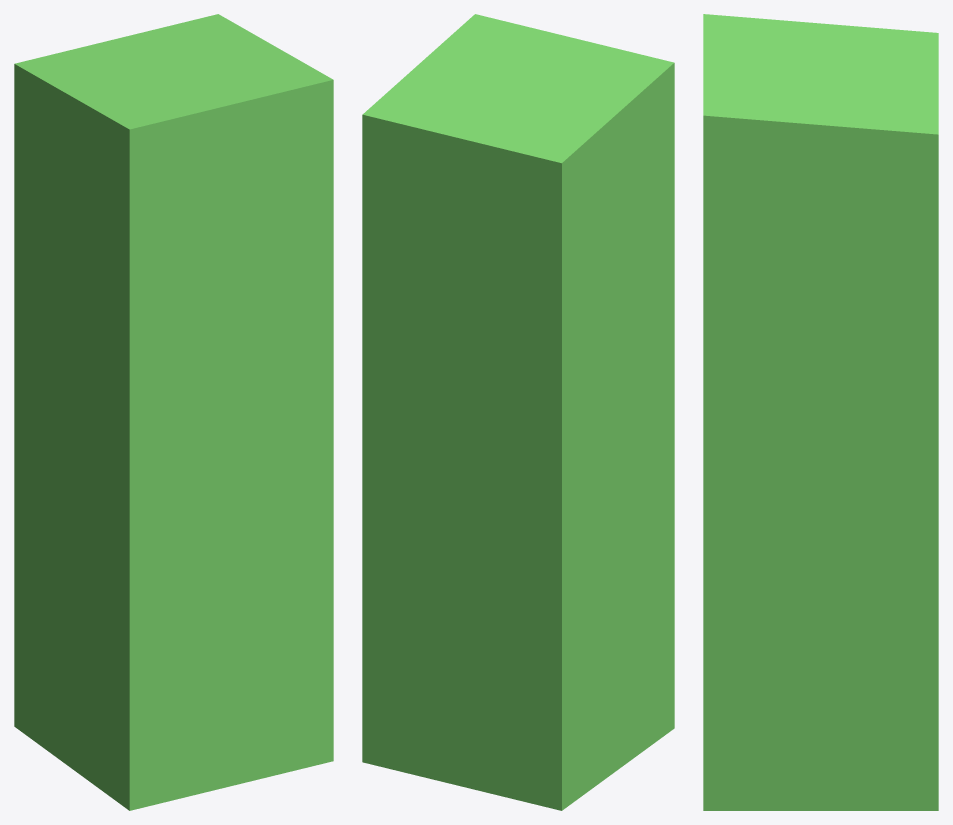
File: sm_Collider20.fbx
3 views of the same model, side by side, from view 1: azimuth 30°, elevation 25°; view 2: azimuth 150°, elevation 25°; view 3: azimuth 270°, elevation 25° (orthographic). The views are drawn at different scales.
Visible parts, largest first — view 1: sm_Collider.025; view 2: sm_Collider.025; view 3: sm_Collider.025.
Boxes of the visible parts, bbox=[...] form: sm_Collider.025: bbox=[14, 14, 333, 810]; sm_Collider.025: bbox=[362, 14, 674, 810]; sm_Collider.025: bbox=[703, 14, 938, 810].
Bounding box in the file's own units: 1914 × 6107 × 1873.
